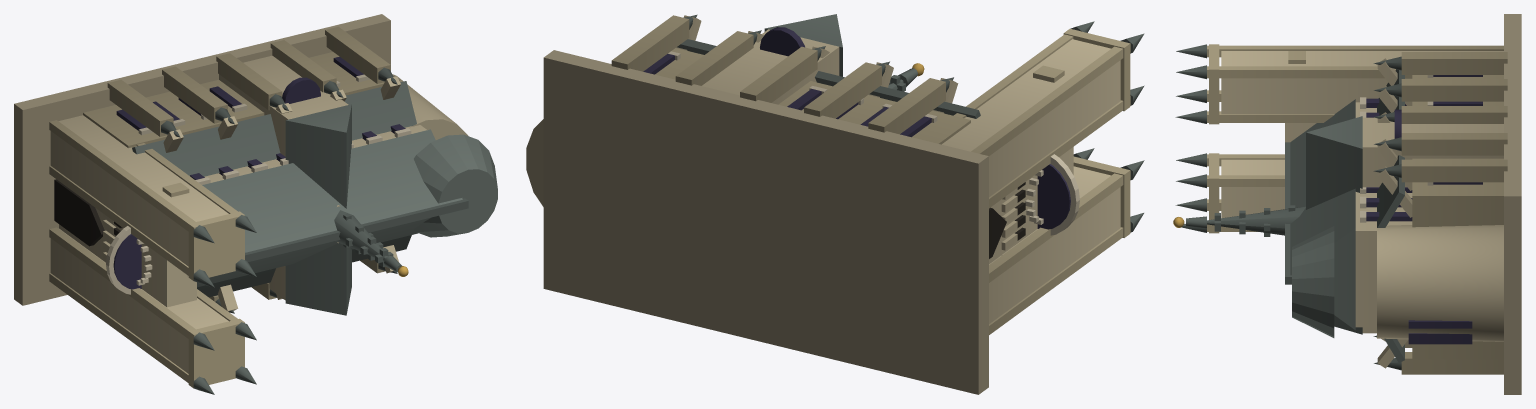
The model's file is notre-dame.glb.
3 renders of one model, left to right at view 1: azimuth 30°, elevation 25°; view 2: azimuth 150°, elevation 25°; view 3: azimuth 270°, elevation 25°, orthographic. The views are drawn at different scales.
Visible parts, largest first — view 1: part-roof, part-stoneShade, part-stone, part-base, part-spire, part-rose, part-dark, part-trim; view 2: part-base, part-stoneShade, part-stone, part-rose, part-roof, part-spire, part-trim, part-dark; view 3: part-stone, part-stoneShade, part-roof, part-base, part-spire, part-rose, part-trim.
Boxes of the visible parts, x1,y1,x2,y2 form: part-roof: (132,81,497,315); part-stoneShade: (49,26,399,388); part-stone: (50,55,468,373); part-base: (14,14,390,305); part-spire: (161,67,468,394); part-rose: (113,56,405,289); part-dark: (54,179,122,246); part-trim: (106,74,411,294); part-base: (543,50,988,394); part-stoneShade: (611,15,1130,334); part-stone: (526,15,1120,323); part-rose: (643,27,1070,229); part-roof: (677,14,980,118); part-spire: (684,14,1144,232); part-trim: (668,51,1079,235); part-dark: (989,182,1025,258); part-stone: (1221,51,1503,368); part-stoneShade: (1207,44,1507,374); part-roof: (1290,69,1404,362); part-base: (1504,14,1521,394); part-spire: (1175,44,1401,370); part-rose: (1366,75,1482,344); part-trim: (1360,75,1433,222).
Size of the model in its own units: 1.3 by 0.71 by 0.986.
